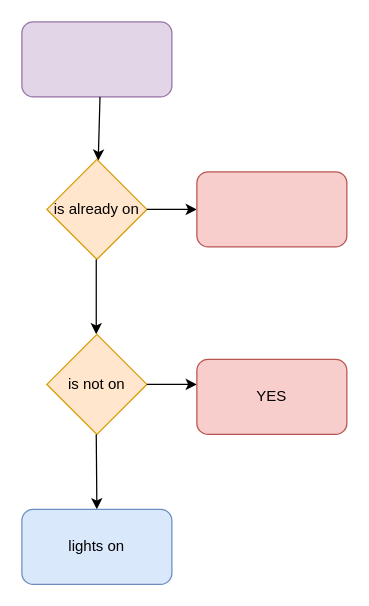
Image size: 369x606. Some labels were removed from this diagram. The shapes that lost their labels are listed below. From the top down, each one's box as (x1, y1, x2, y2) in pixels, then its label:
(21, 21, 172, 97): Switch on lights?
(196, 171, 347, 247): NO
